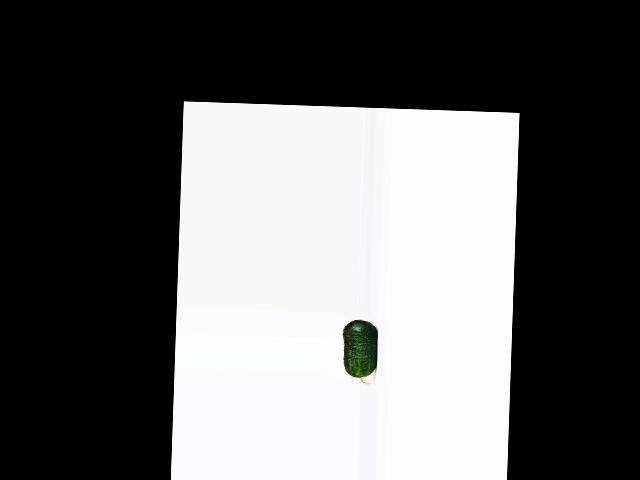cucumber: (340, 320, 378, 385)
